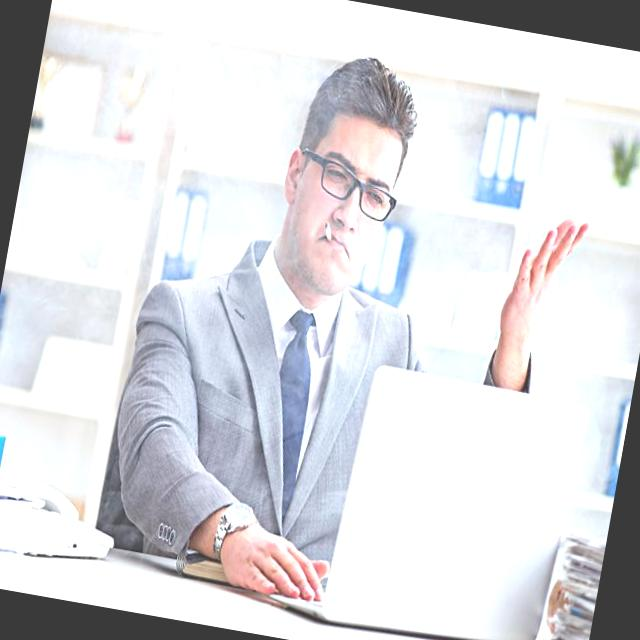cigarette: (318, 216, 337, 244)
